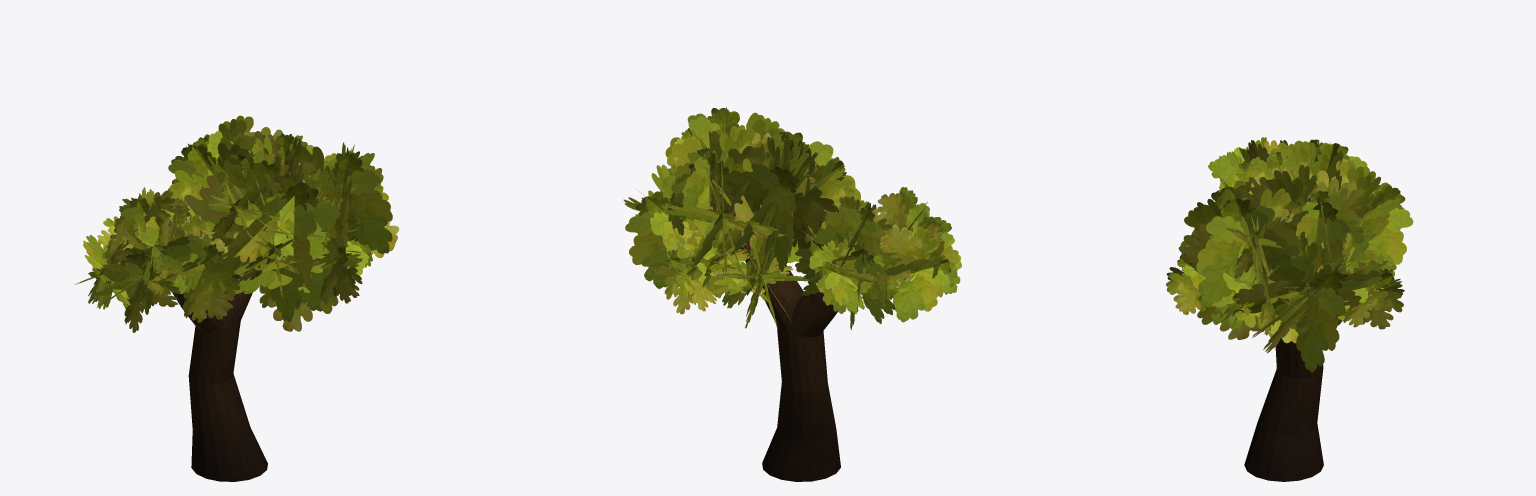
The model's file is oak 1 .fbx.
3 renders of one model, left to right at view 1: azimuth 30°, elevation 25°; view 2: azimuth 150°, elevation 25°; view 3: azimuth 270°, elevation 25°, orthographic. The views are drawn at different scales.
Parts seen in each view (by area): view 1: 1 textured.004; view 2: 1 textured.004; view 3: 1 textured.004.
Boxes of the visible parts, x1=… form: 1 textured.004: x1=74, y1=115, x2=399, y2=481; 1 textured.004: x1=623, y1=107, x2=961, y2=481; 1 textured.004: x1=1166, y1=137, x2=1413, y2=481.
Bounding box in the file's own units: 2035 × 1821 × 1773.
